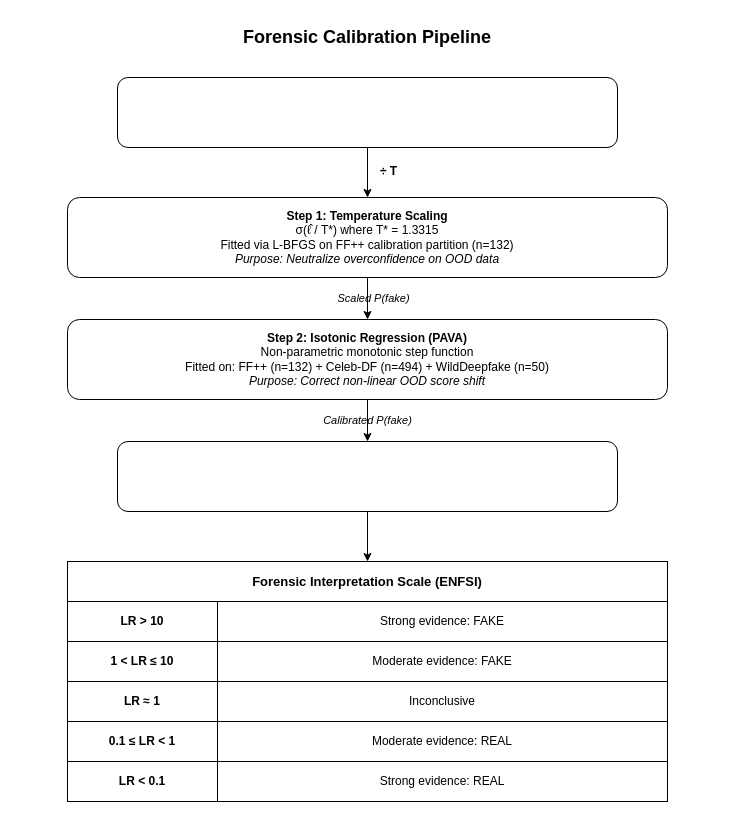
This 734x819 diagram has some shape labels left out. Each missing label, with the centre of its shape:
"Likelihood Ratio Conversion LR = P(fake) / (1 − P(fake))" goes at pixel 367 476.
"Raw Logit (ℓ̂) Output of MLP Classification Head Range: (−∞, +∞)" goes at pixel 367 112.
